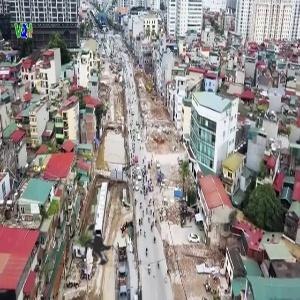drone: (54, 206, 139, 291)
